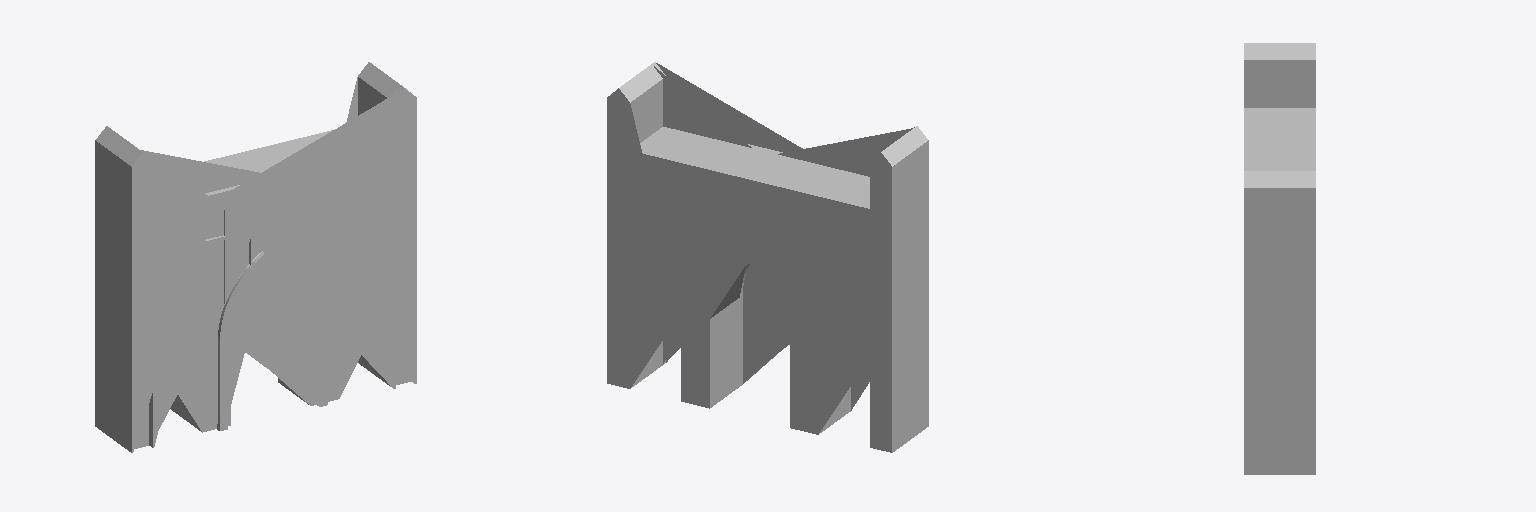
File: Gate2melt.obj
3 views of the same model, side by side, from view 1: azimuth 30°, elevation 25°; view 2: azimuth 150°, elevation 25°; view 3: azimuth 270°, elevation 25° (orthographic).
Parts seen in each view (by area): view 1: SketchUp ID2; view 2: SketchUp ID2; view 3: SketchUp ID2.
Boxes of the visible parts, x1=… form: SketchUp ID2: x1=95, y1=62, x2=416, y2=452; SketchUp ID2: x1=607, y1=62, x2=928, y2=452; SketchUp ID2: x1=1244, y1=43, x2=1315, y2=474.
Size of the model in its own units: 50 by 50 by 11.